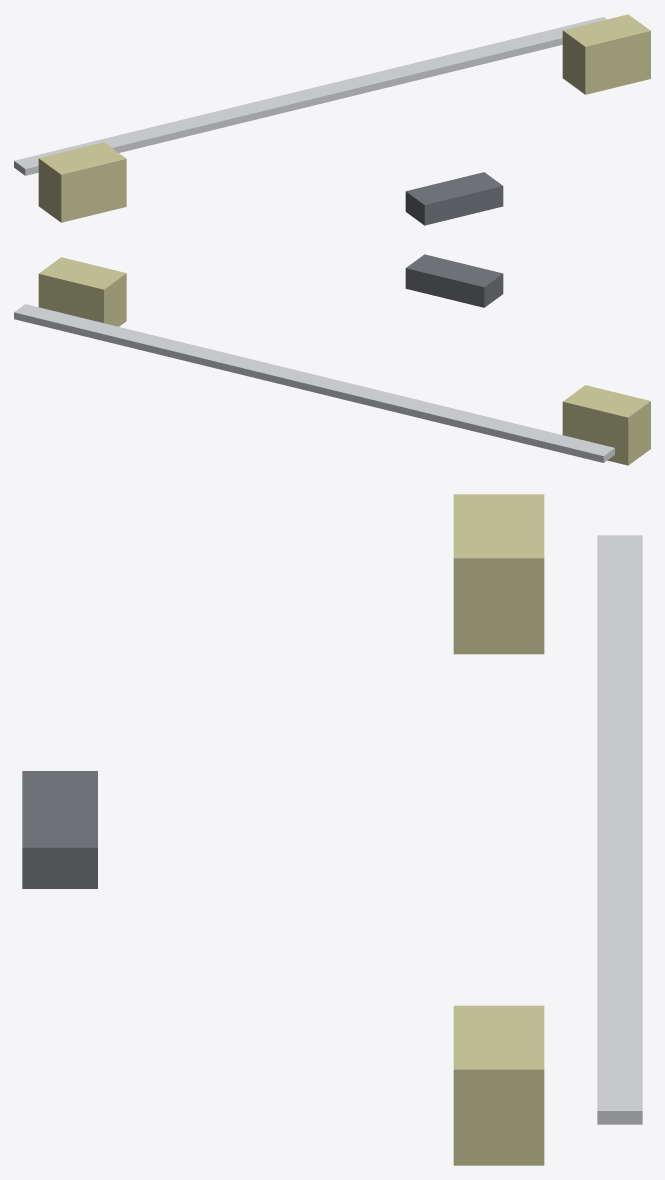
Rendered from op040_shelf.glb.
3 views of the same model, one above another, from view 1: azimuth 30°, elevation 25°; view 2: azimuth 150°, elevation 25°; view 3: azimuth 270°, elevation 25° (orthographic). The views are drawn at different scales.
Parts seen in each view (by area): view 1: P110, K205, K204, Z31; view 2: P110, K204, K205, Z31; view 3: P110, K204, K205, Z31.
Part boxes in pixels (x1,y1,x2,y2): P110: (14, 17, 606, 175); K205: (562, 14, 650, 94); K204: (38, 142, 126, 222); Z31: (405, 172, 503, 225); P110: (14, 304, 614, 462); K204: (562, 385, 650, 465); K205: (38, 257, 126, 326); Z31: (405, 254, 503, 307); P110: (597, 535, 642, 1124); K204: (453, 494, 544, 654); K205: (453, 1005, 544, 1165); Z31: (22, 771, 97, 888).
Bounding box in the file's own units: 0.9 × 0.07 × 0.41.
